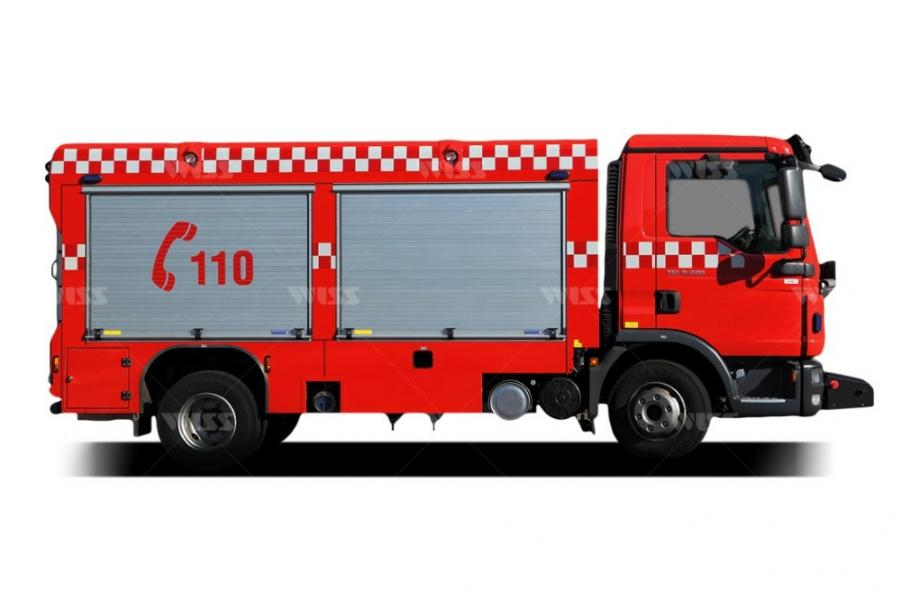truck: (44, 131, 829, 468)
